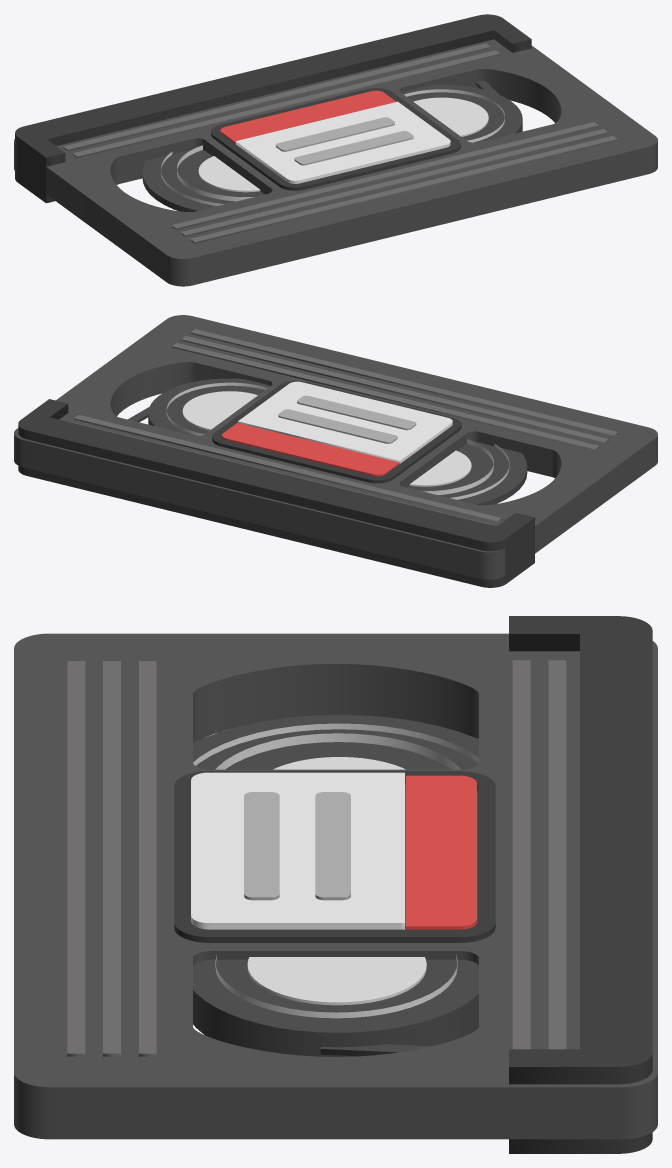
File: emoji_u1f4fc.glb
3 renders of one model, top to bottom at view 1: azimuth 30°, elevation 25°; view 2: azimuth 150°, elevation 25°; view 3: azimuth 270°, elevation 25°, orthographic. The views are drawn at different scales.
Parts seen in each view (by area): view 1: emoji_u1f4fc; view 2: emoji_u1f4fc; view 3: emoji_u1f4fc.
Part boxes in pixels (<box>): emoji_u1f4fc: <box>14,14,657,286</box>; emoji_u1f4fc: <box>14,315,657,587</box>; emoji_u1f4fc: <box>14,616,657,1153</box>.
Size of the model in its own units: 0.0336 by 0.003 by 0.0202.
